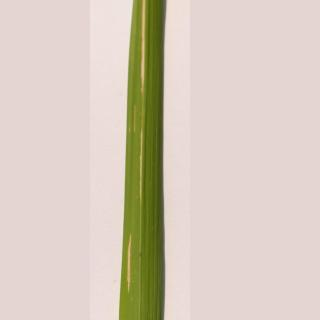Hawar-Daun: (131, 0, 156, 212), (118, 227, 138, 295)
